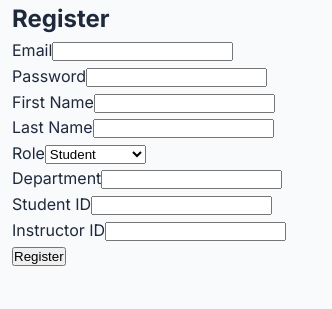
Test: RegisterForm › renders and submits registration
Step 1. Type "reg@example.com" into the field labelled "Email" → (143, 52), box [52,42,233,61]
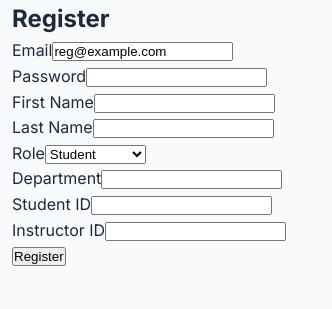
Step 2. Type "Password1!" into the password field labelled "Password" → (176, 78), box [86,68,267,87]
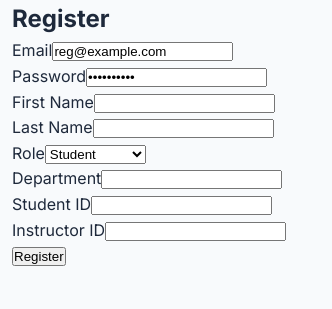
Step 3. Type "Reg" into the field labelled "First Name" → (184, 103), box [94,94,275,113]
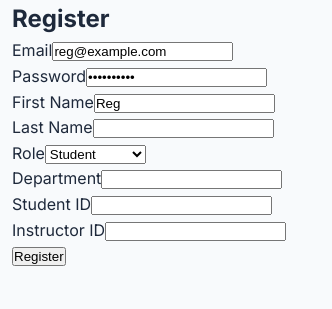
Step 4. Type "User" into the field labelled "Last Name" → (183, 129), box [93,119,274,138]
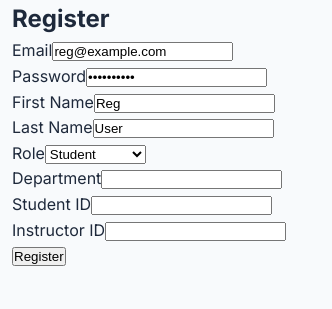
Step 5. Select "Student" in the dropdown labelled "Role" → (95, 154), box [45,145,146,164]
Step 6. Click the button "Register" → (39, 257), box [12,247,66,266]
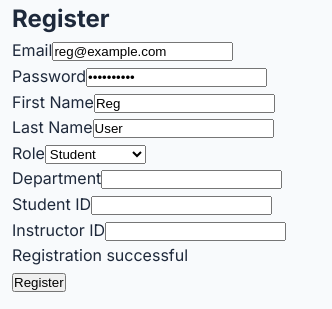
Check: the message reads "Registration successful", box [12,245,188,265]
